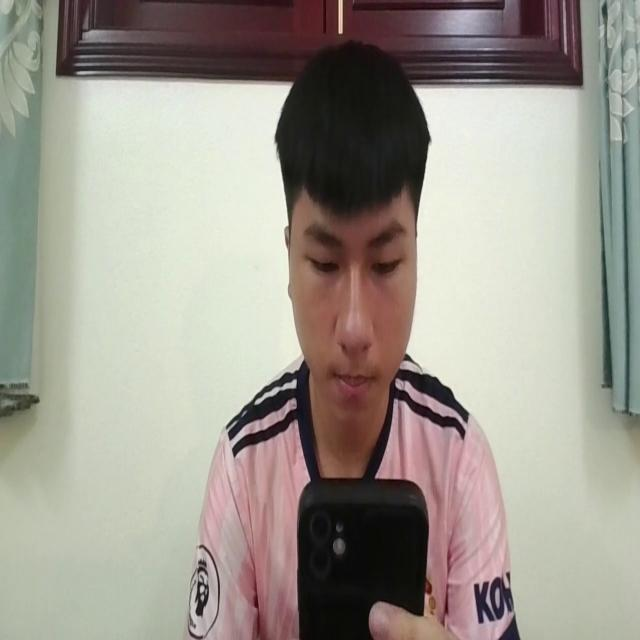phone: (293, 462, 431, 640)
student: (191, 33, 513, 640)
